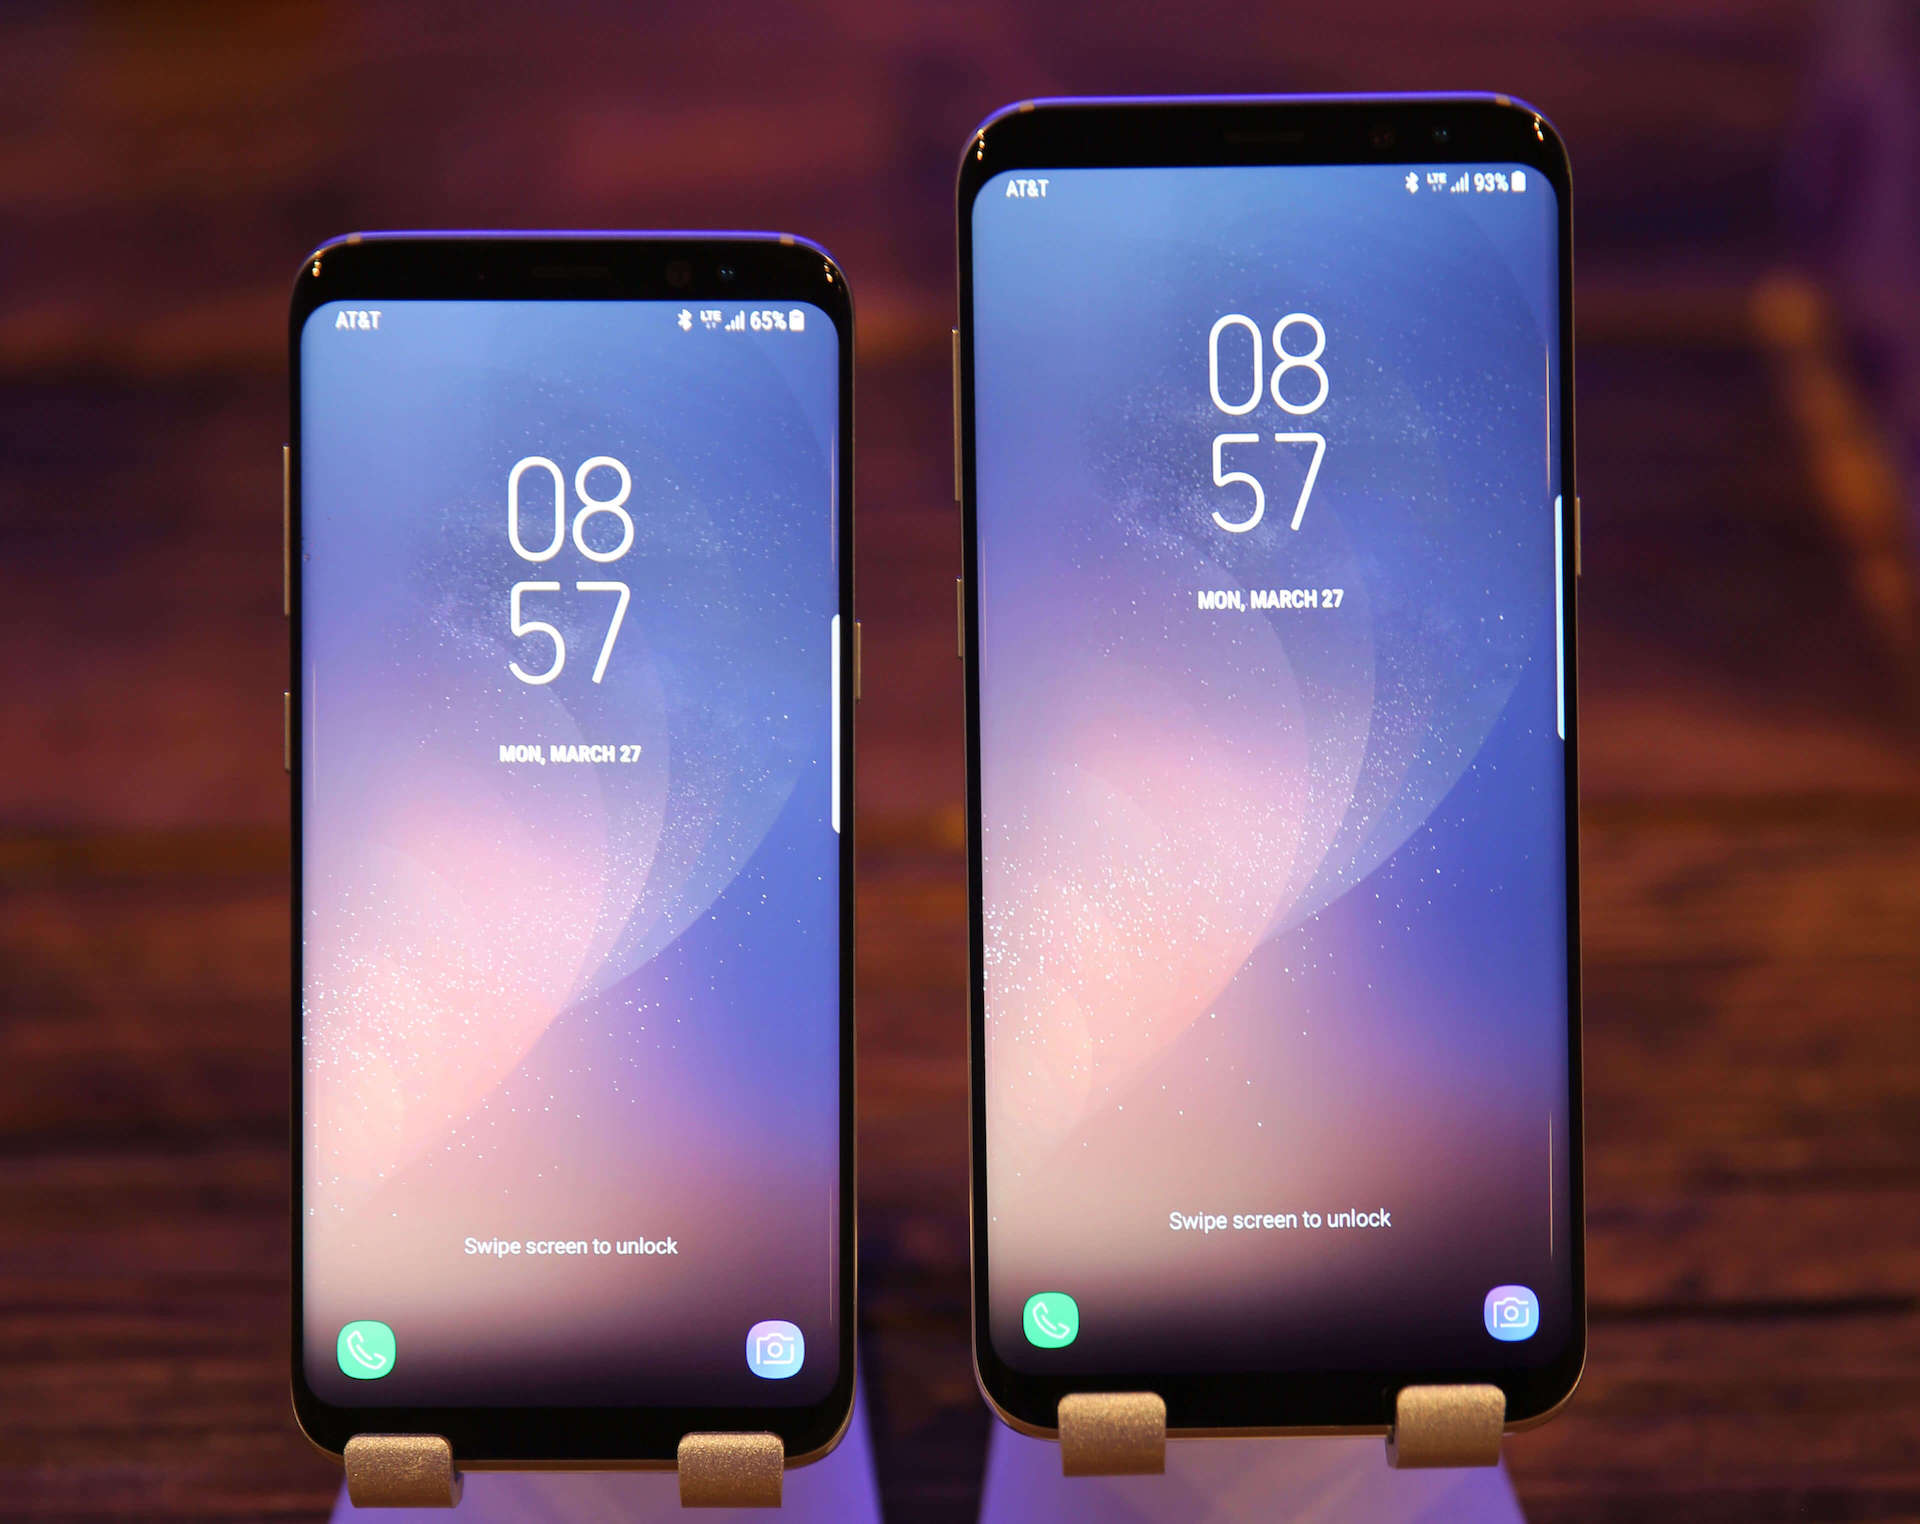smartphone: (948, 86, 1593, 1445), (281, 224, 863, 1476)
